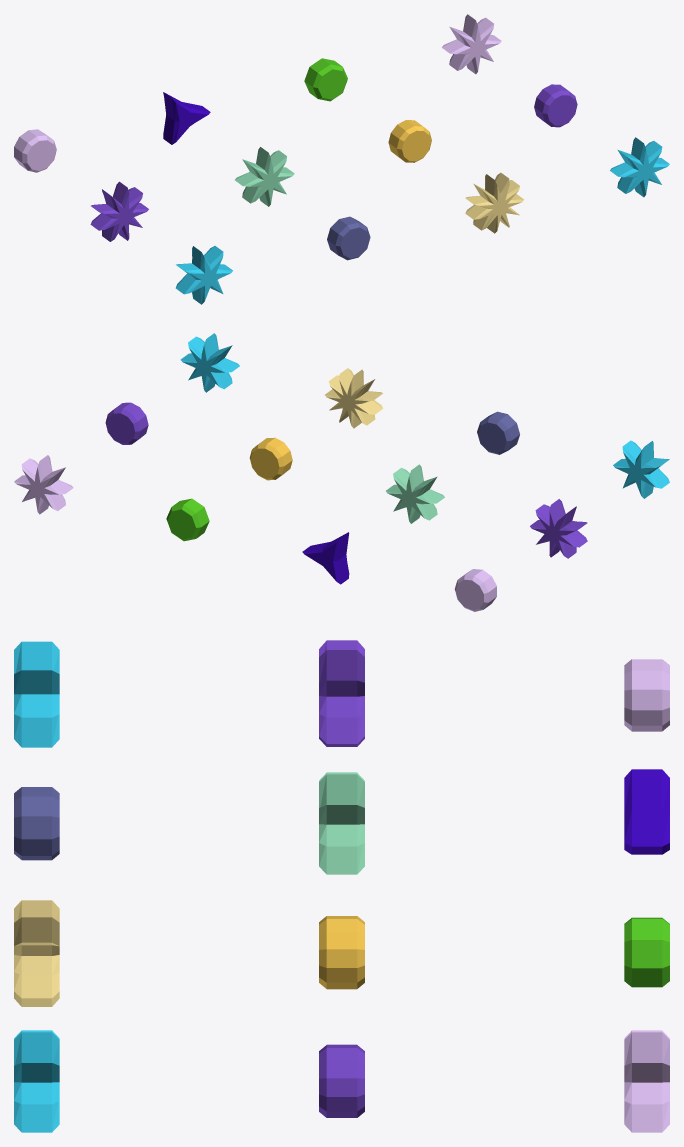
File: phong_flat_mats_3_LinearExtrusionTest_2023-06-04-21-23-00.gltf
3 views of the same model, one above another, from view 1: azimuth 30°, elevation 25°; view 2: azimuth 150°, elevation 25°; view 3: azimuth 270°, elevation 25° (orthographic). The views are drawn at different scales.
Size of the model in its own units: 669 by 71.31 by 430.
